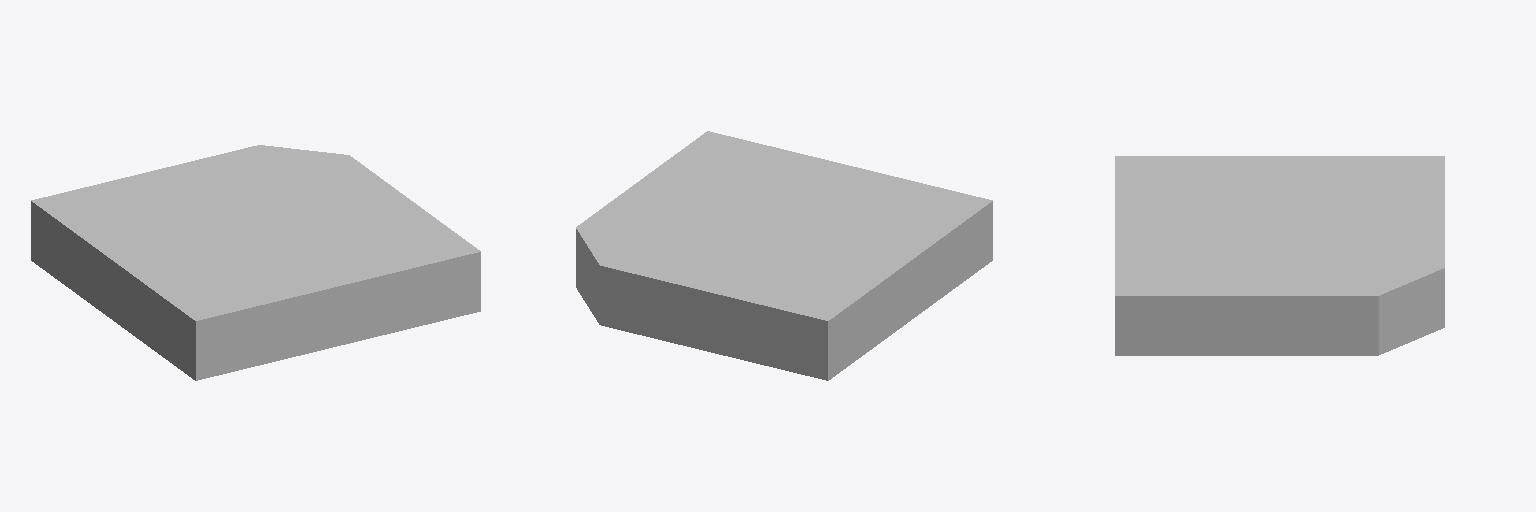
File: RoadCorner3.obj
3 renders of one model, left to right at view 1: azimuth 30°, elevation 25°; view 2: azimuth 150°, elevation 25°; view 3: azimuth 270°, elevation 25°, orthographic.
Visible parts, largest first — view 1: CUBE1; view 2: CUBE1; view 3: CUBE1.
Part boxes in pixels (left/top/right/bottom): CUBE1: left=31, top=145, right=480, bottom=380; CUBE1: left=576, top=131, right=992, bottom=380; CUBE1: left=1115, top=156, right=1444, bottom=355.
Size of the model in its own units: 5 by 1 by 5.